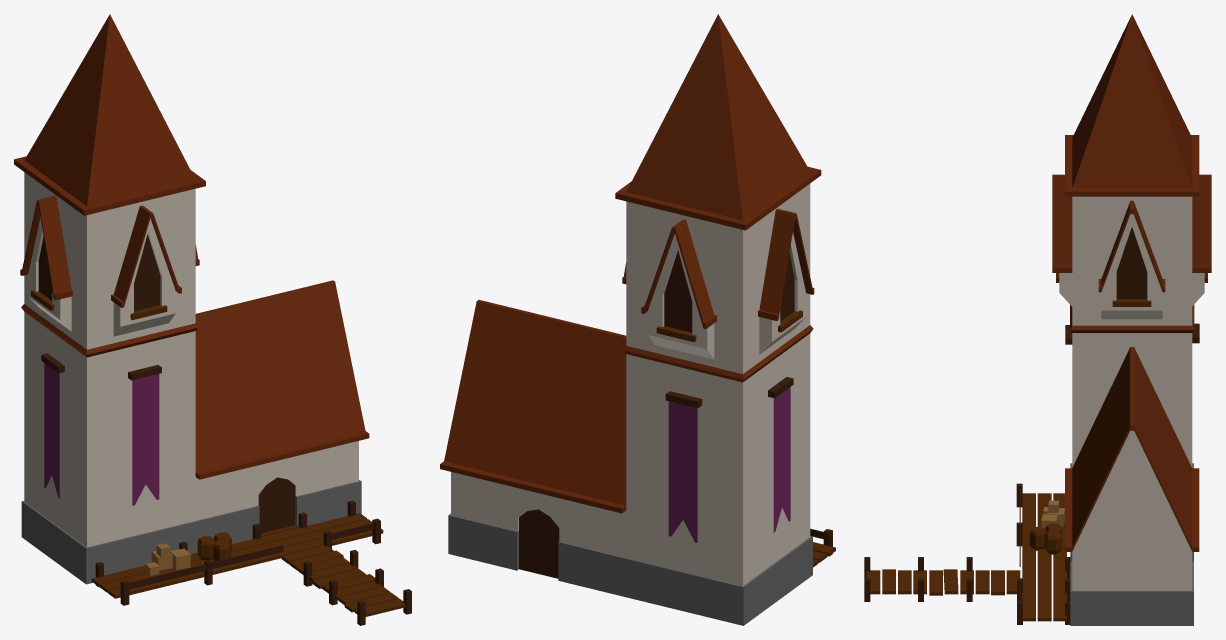
Rendered from PortV1.fbx.
3 views of the same model, side by side, from view 1: azimuth 30°, elevation 25°; view 2: azimuth 150°, elevation 25°; view 3: azimuth 270°, elevation 25° (orthographic). The views are drawn at different scales.
Parts seen in each view (by area): view 1: Plane.361; view 2: Plane.361; view 3: Plane.361.
Boxes of the visible parts, x1,y1,x2,y2 form: Plane.361: (14,14,411,625); Plane.361: (440,14,835,625); Plane.361: (864,14,1211,625).
Bounding box in the file's own units: 183 × 316 × 194.
